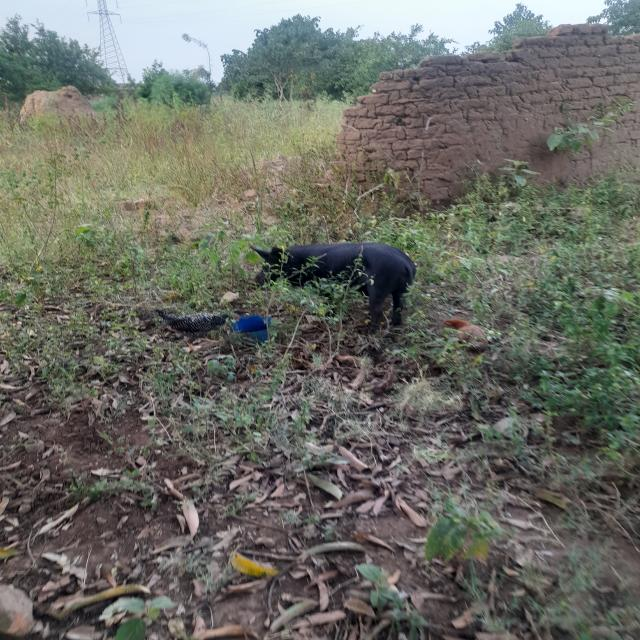pig: (212, 215, 461, 346)
